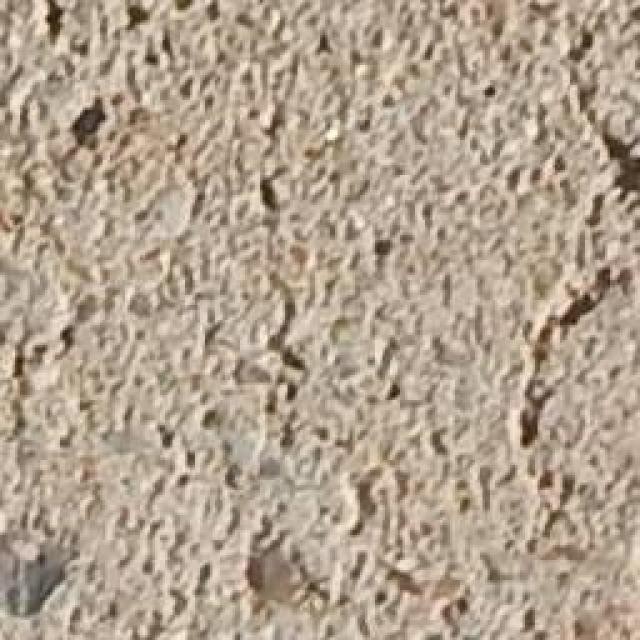concrete-crack: (501, 25, 640, 465)
